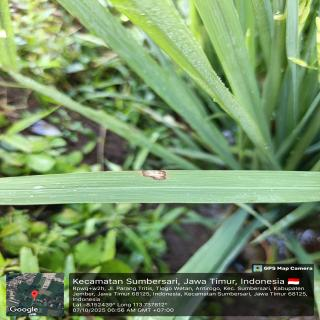Blast: (140, 170, 172, 182)
